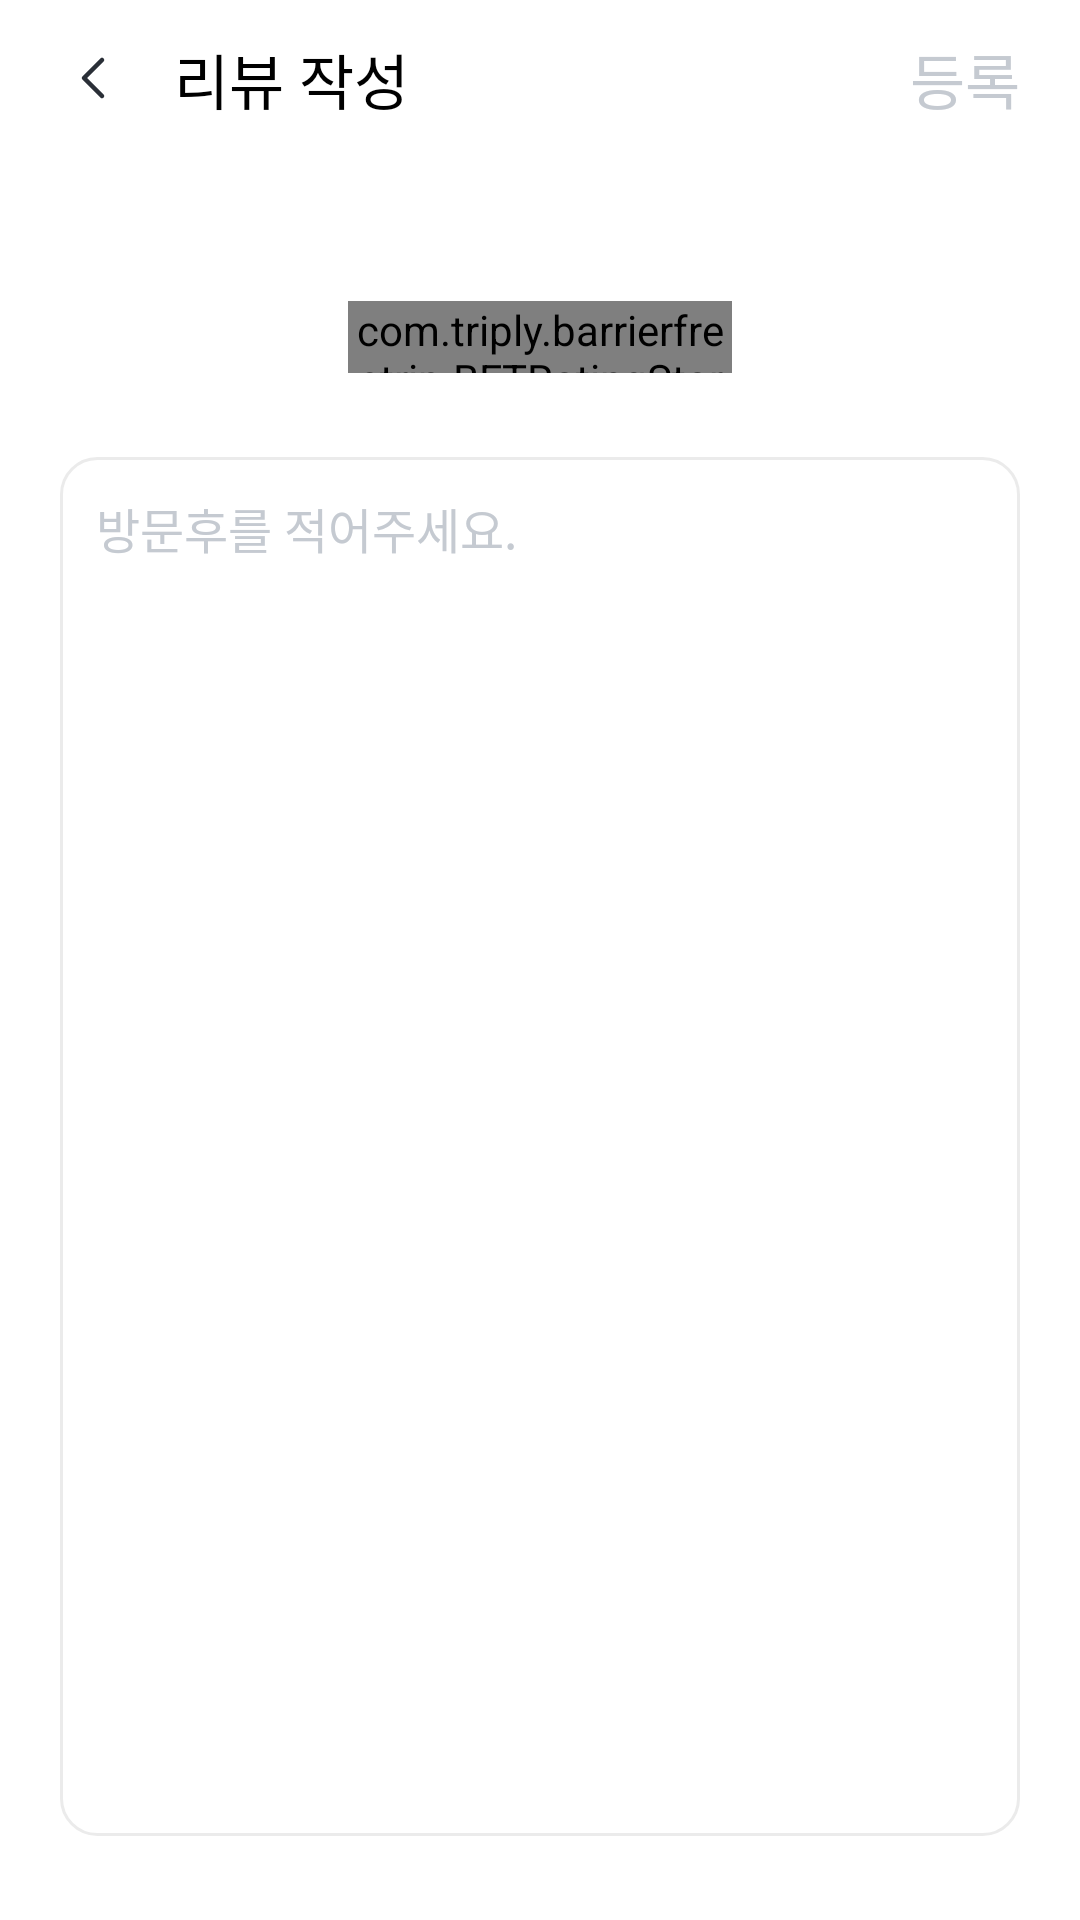

Named icons in this screenshot (1080 × 1920) and their centers, point (x, y):
back: point (93, 78)
